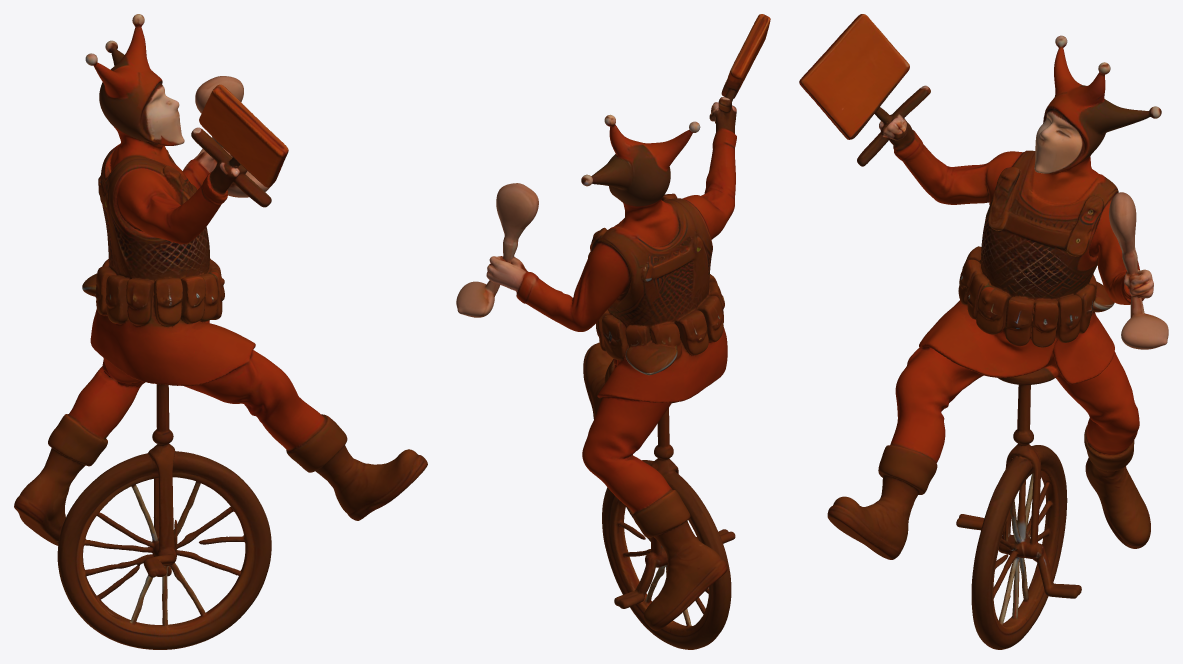
File: Red-Bomber-figure.glb
The picture shows the model from 3 angles, left to right: view 1: azimuth 30°, elevation 25°; view 2: azimuth 150°, elevation 25°; view 3: azimuth 270°, elevation 25°; orthographic projection. The views are drawn at different scales.
Visible parts, largest first — view 1: tripo_node_5190a719-70f1-4302-b8b7-1ebd6cc12aa9; view 2: tripo_node_5190a719-70f1-4302-b8b7-1ebd6cc12aa9; view 3: tripo_node_5190a719-70f1-4302-b8b7-1ebd6cc12aa9.
Part boxes in pixels (bbox=[...]): tripo_node_5190a719-70f1-4302-b8b7-1ebd6cc12aa9: bbox=[14, 14, 427, 649]; tripo_node_5190a719-70f1-4302-b8b7-1ebd6cc12aa9: bbox=[456, 14, 770, 649]; tripo_node_5190a719-70f1-4302-b8b7-1ebd6cc12aa9: bbox=[799, 14, 1168, 649].
Size of the model in its own units: 0.4671 by 1 by 0.5436.
Materials: 1 (1 with a texture image).
